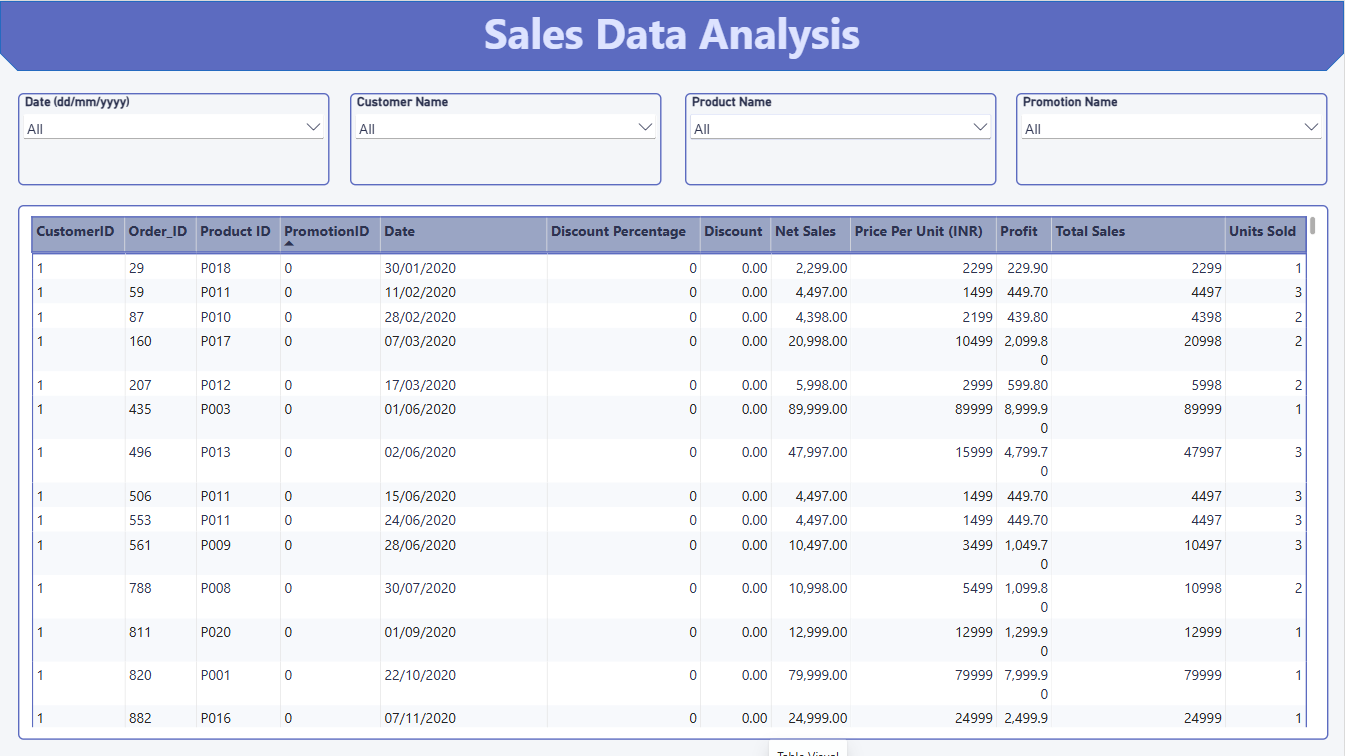

This screenshot's page, from the dashboard's own definition file:
{"tool":"powerbi","page":{"name":"Table Visual","canvas":[1920,1080],"ordinal":4},"visuals":[{"type":"shape","box":[0,0,1920,100],"z":0},{"type":"tableEx","fields":{"Values":["Fact_Table.CustomerID","Fact_Table.Order_ID","Fact_Table.Product ID","Fact_Table.PromotionID","Fact_Table.Date (dd/mm/yyyy)","Fact_Table.Discount_Percentage","Fact_Table.Discount_Value","Fact_Table.Net_Sales","Fact_Table.Price_Per_Unit (INR)","Fact_Table.Profit","Fact_Table.Total_Sales","Fact_Table.Units Sold"]},"box":[26,292,1872,764],"z":1000},{"type":"slicer","fields":{"Values":["Fact_Table.Date (dd/mm/yyyy)"]},"box":[26,132,445,132],"z":2000},{"type":"slicer","fields":{"Values":["Dim Promotion.Promotion Name"]},"box":[1452,132,445,132],"z":3000},{"type":"slicer","fields":{"Values":["Dim Product.Product Name"]},"box":[978,132,445,132],"z":4000},{"type":"slicer","fields":{"Values":["Dim Customers.Customer Name"]},"box":[500,132,445,132],"z":5000}]}

Visuals, with their boxes in screenshot pixels (x1, y1, x2, y2), scaled from the page's 1920x1080 canvas onto the 1345x756 screenshot:
shape: {"left": 0, "top": 0, "right": 1344, "bottom": 70}
tableEx - Fact_Table.CustomerID x Fact_Table.Order_ID: {"left": 18, "top": 204, "right": 1330, "bottom": 739}
slicer - Fact_Table.Date (dd/mm/yyyy): {"left": 18, "top": 92, "right": 330, "bottom": 185}
slicer - Dim Promotion.Promotion Name: {"left": 1017, "top": 92, "right": 1329, "bottom": 185}
slicer - Dim Product.Product Name: {"left": 685, "top": 92, "right": 997, "bottom": 185}
slicer - Dim Customers.Customer Name: {"left": 350, "top": 92, "right": 662, "bottom": 185}
